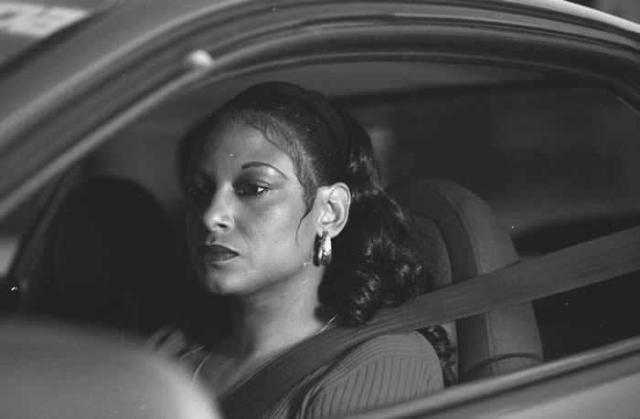SafeDriving: (233, 170, 280, 206)
Seatbelt: (218, 220, 639, 419)
